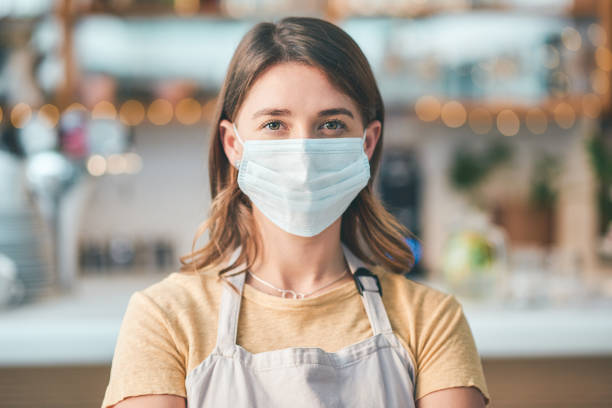with mask: (208, 59, 378, 246)
